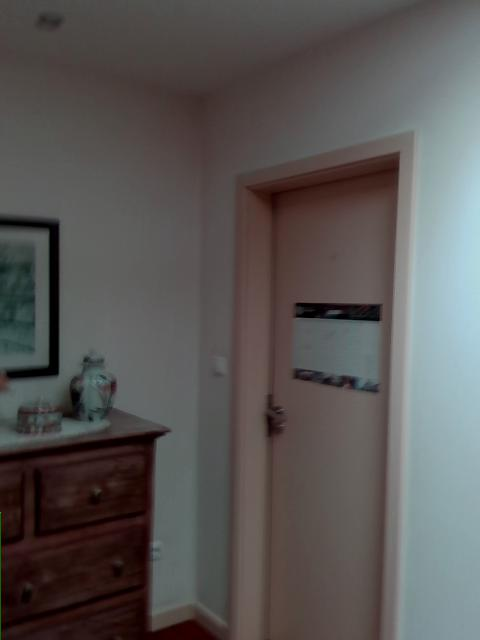closed_door: (227, 130, 419, 638)
